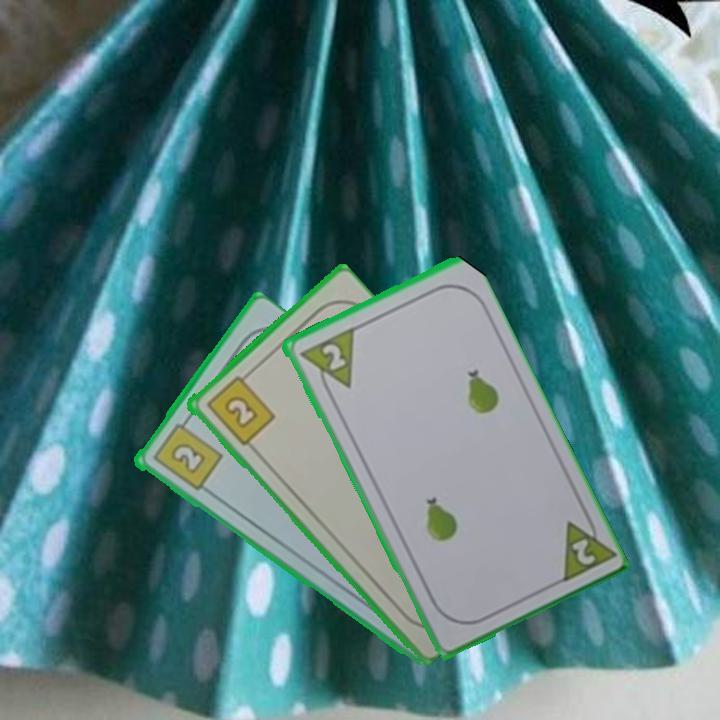2b: (202, 368, 278, 449), (149, 414, 225, 494)
2p: (554, 507, 615, 587), (295, 324, 357, 400)
